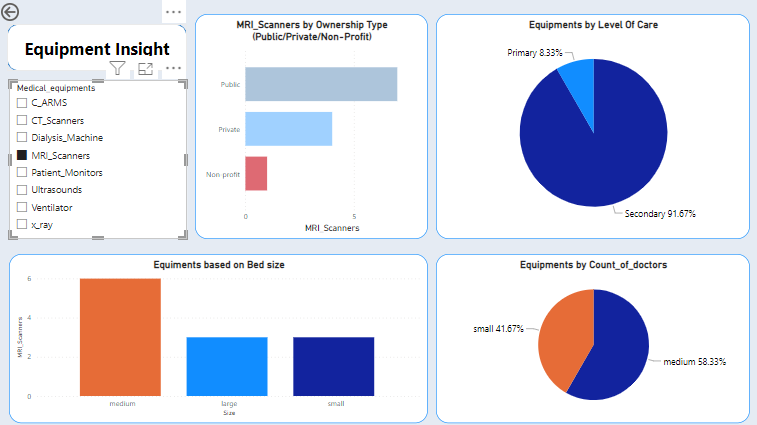

The dashboard page shown, as its layout file describes it:
{"tool":"powerbi","page":{"name":"Equipment","canvas":[1280,720],"ordinal":1},"visuals":[{"type":"barChart","fields":{"Y":["DAX.MRI_Scanners"],"Category":["Medical_data.Ownership Type (Public/Private/Non-Profit)"]},"box":[328.3,23.3,388.3,375],"z":0},{"type":"treemap","title":"Equipments  by Level Of Care","fields":{"Values":["DAX.MRI_Scanners"],"Group":["Medical_data.Level Of Care"]},"box":[730,23.3,523.3,375],"z":1000},{"type":"columnChart","title":"Equiments based on Bed size","fields":{"Y":["DAX.MRI_Scanners"],"Category":["Medical_data.Size"],"Series":["Medical_data.Size"]},"box":[18.3,423.3,698.3,281.7],"z":2000},{"type":"pieChart","title":"Equipments by Count_of_doctors","fields":{"Y":["DAX.MRI_Scanners"],"Category":["Medical_data.Count_of_doctors"]},"box":[730,423.3,523.3,281.7],"z":3000},{"type":"slicer","fields":{"Values":["Medical_equipments.Medical_equipments"]},"box":[18.3,133.3,296.7,265],"z":4000},{"type":"actionButton","box":[0,0,53.3,40],"z":5000},{"type":"shape","box":[15,40,300,78.3],"z":6000}]}

Visuals, with their boxes on the page's 1280x720 design canvas (x1, y1, x2, y2). These are canvas units, not pixel positions in the 757x425 screenshot, which may show the page scaled, cropped or inside an application window:
barChart - DAX.MRI_Scanners x Medical_data.Ownership Type (Public/Private/Non-Profit): 328:23:717:398
"Equipments  by Level Of Care" treemap: 730:23:1253:398
"Equiments based on Bed size" columnChart: 18:423:717:705
"Equipments by Count_of_doctors" pieChart: 730:423:1253:705
slicer - Medical_equipments.Medical_equipments: 18:133:315:398
actionButton: 0:0:53:40
shape: 15:40:315:118
